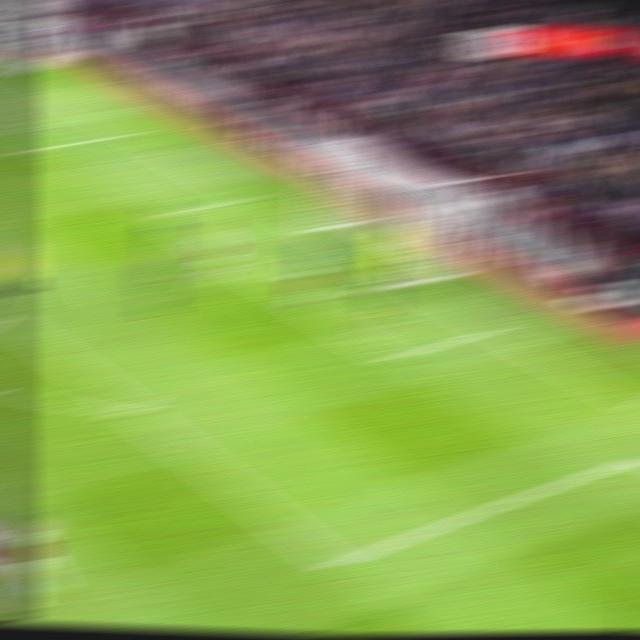bigarea_bottom_inner: (311, 546, 358, 583)
bigarea_top_outter: (116, 123, 151, 140)
bottom_arc_area_intersection: (107, 390, 153, 425)
smallarea_bottom_inner: (373, 344, 412, 372)
smallarea_bottom_outter: (474, 317, 511, 340)
smallarea_top_outter: (233, 188, 270, 207)
